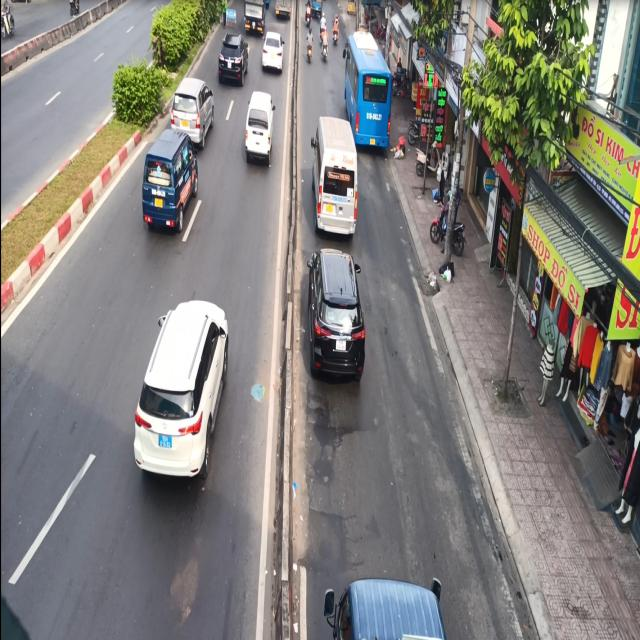bus: (342, 25, 393, 166)
car: (133, 290, 232, 514), (307, 240, 368, 394), (143, 124, 201, 243), (310, 107, 360, 234), (242, 84, 272, 169), (216, 29, 249, 92), (260, 27, 284, 79)
